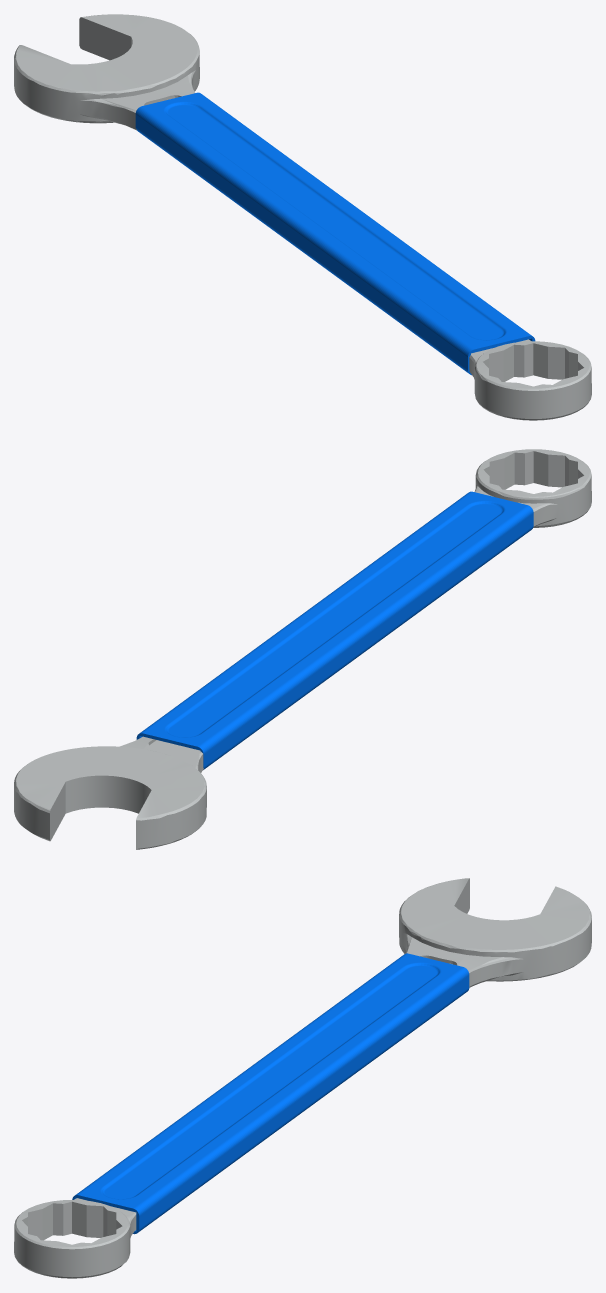
The model's file is 11-Wrench_V02.fbx.
The picture shows the model from 3 angles, top to bottom: view 1: azimuth 30°, elevation 25°; view 2: azimuth 150°, elevation 25°; view 3: azimuth 330°, elevation 25°; orthographic projection.
Parts seen in each view (by area): view 1: Wrench - V2, Wrench; view 2: Wrench - V2, Wrench; view 3: Wrench - V2, Wrench.
Boxes of the visible parts, x1,y1,x2,y2 form: Wrench - V2: (135,92,535,375); Wrench: (14,14,591,420); Wrench - V2: (136,491,533,769); Wrench: (14,449,591,849); Wrench - V2: (72,953,469,1234); Wrench: (14,878,591,1278).
Bounding box in the file's own units: 6.9 × 1.27 × 35.62.
Materials: 1 (1 with a texture image).
